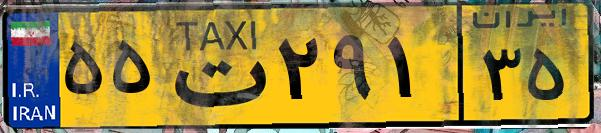1: (385, 28, 445, 110)
2: (270, 28, 330, 110)
3: (475, 38, 525, 113)
5: (57, 26, 110, 100), (525, 38, 570, 115), (110, 28, 158, 98)
9: (330, 28, 385, 110)
ت: (158, 12, 270, 120)
